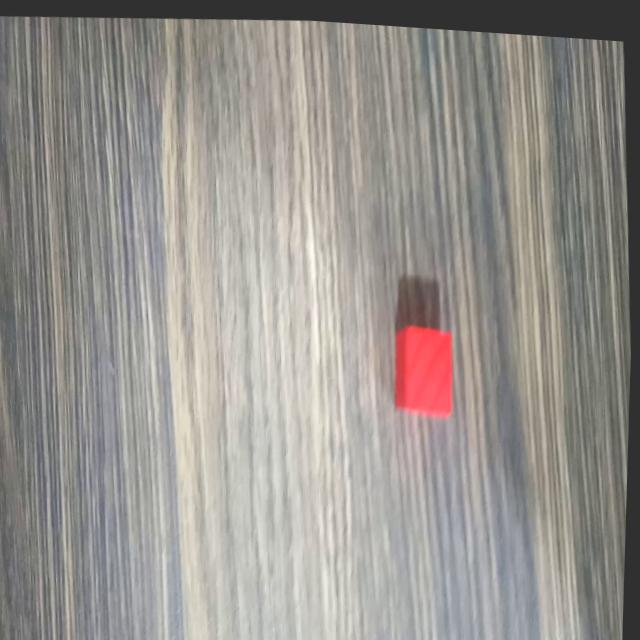cube: (389, 312, 461, 418)
